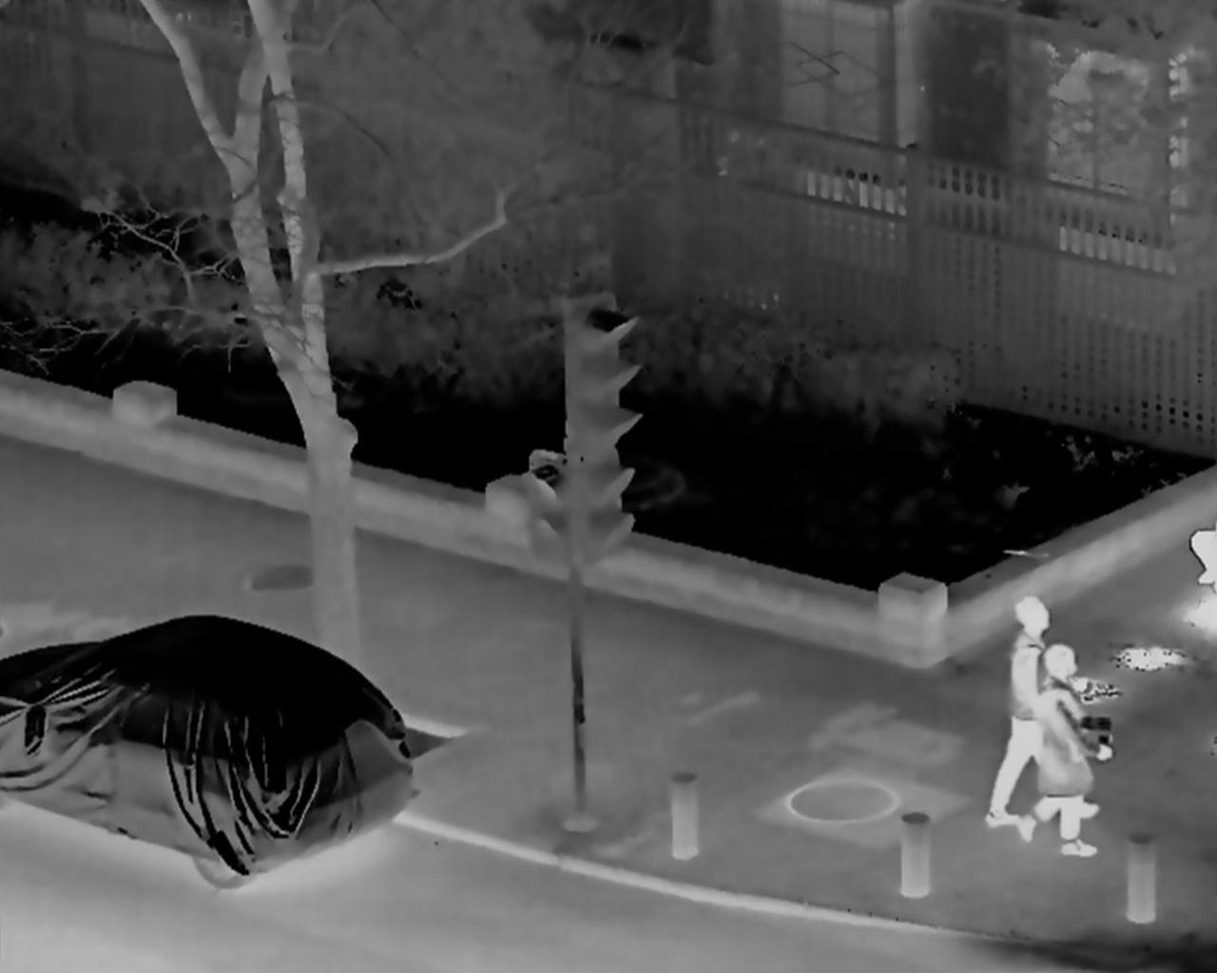person: (985, 596, 1104, 830), (1020, 656, 1115, 859)
